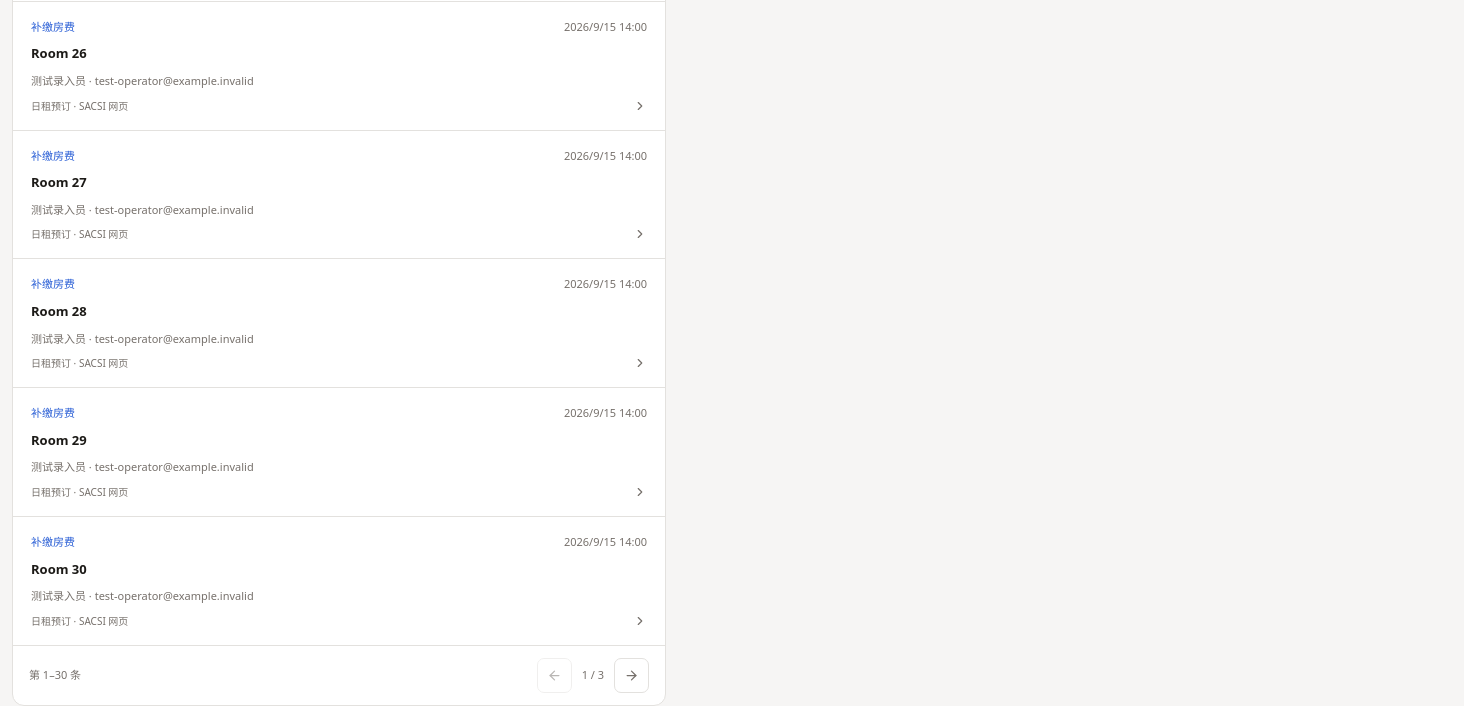
Scenario: paged audit workbench › keeps failures separate from successful empty results and can retry
(page scrolled)
Click the button named "下一页" at {"x": 632, "y": 675}, box [614,658,649,693]
(page scrolled)
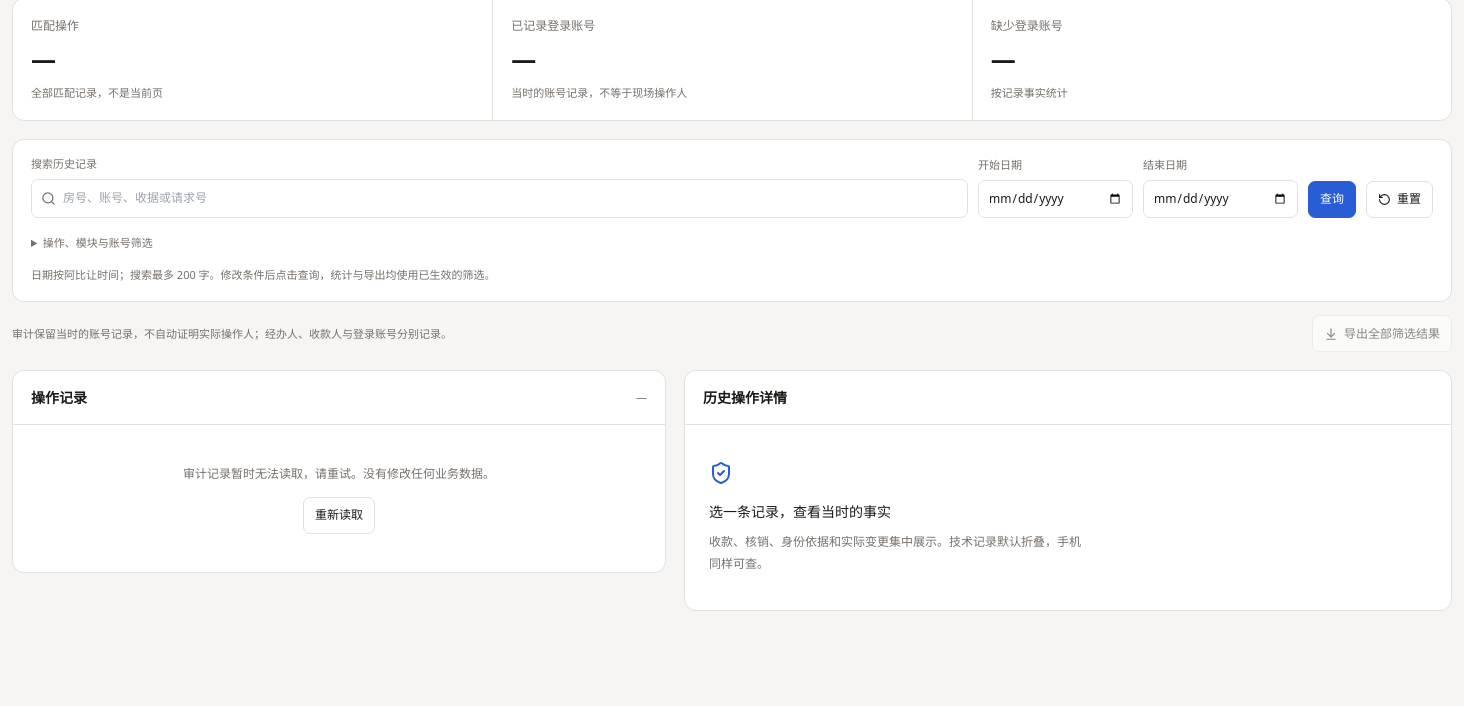
Expected: the text "没有匹配记录" is not shown
Expected: the text "暂时无法读取" is shown, [183,465,495,482]
Click the button "重新读取" at {"x": 339, "y": 515}, box [303,497,375,534]
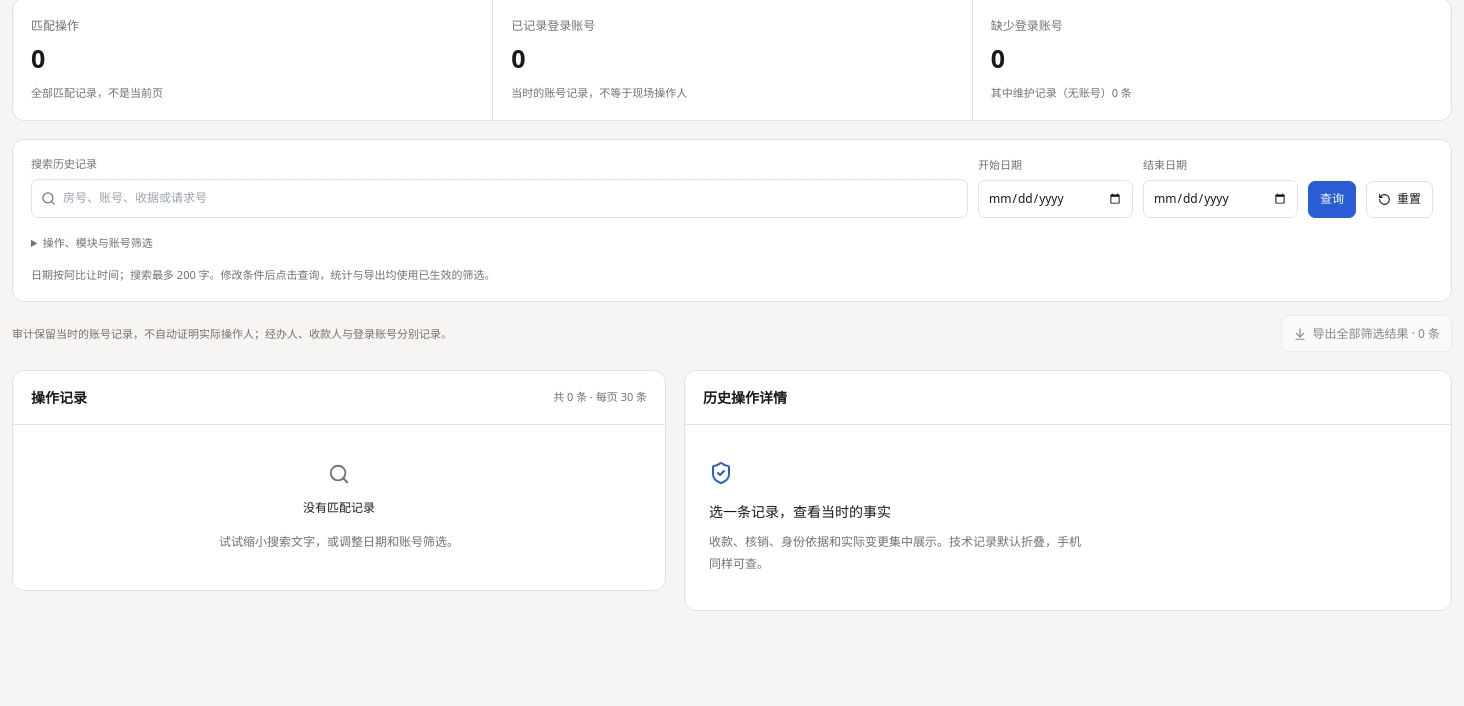
Expected: the text "没有匹配记录" is shown, [303,497,375,519]
Expected: the message "审计记录暂时无法读取，请重试。没有修改任何业务数据。" is gone
